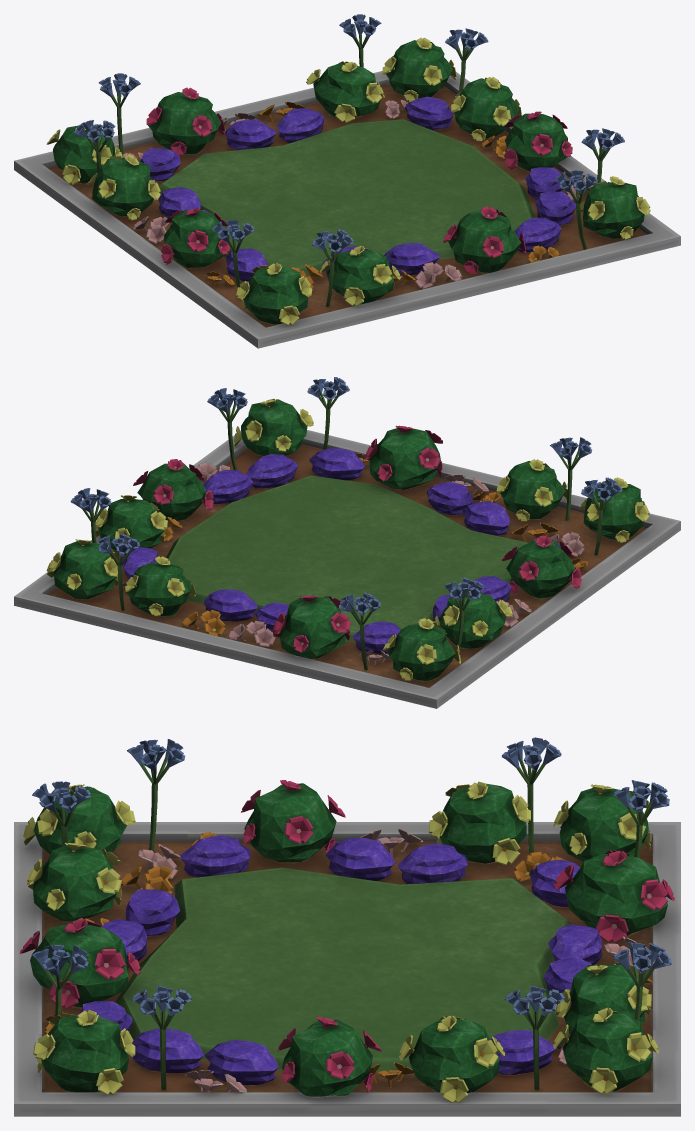
The model's file is Garden.gltf.
3 views of the same model, one above another, from view 1: azimuth 30°, elevation 25°; view 2: azimuth 150°, elevation 25°; view 3: azimuth 270°, elevation 25° (orthographic). The views are drawn at different scales.
Parts seen in each view (by area): view 1: node-0; view 2: node-0; view 3: node-0.
Boxes of the visible parts, x1,y1,x2,y2 form: node-0: (14, 14, 680, 348); node-0: (14, 377, 680, 708); node-0: (14, 737, 680, 1116).
Size of the model in its own units: 24.18 by 4.27 by 23.96.
1 material, 1 textured.
